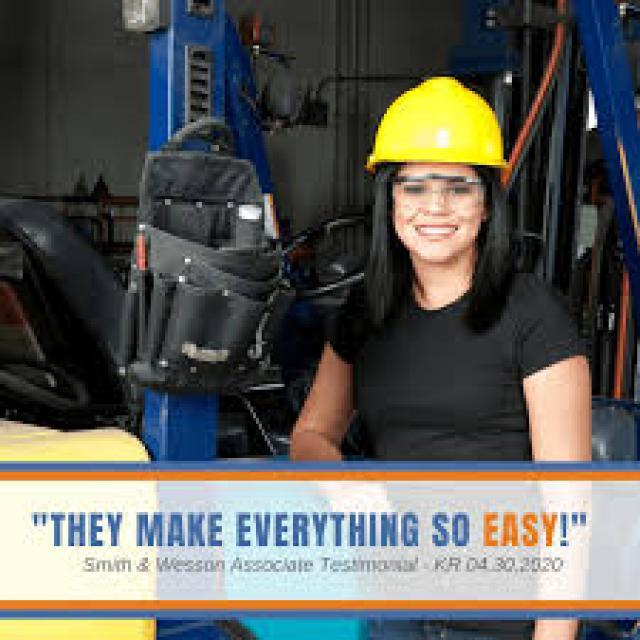safety_helmet: (349, 68, 520, 193)
